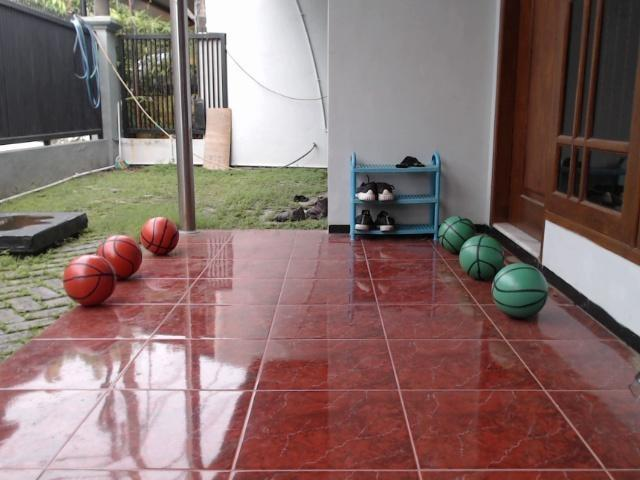Sports-Ball: (492, 263, 546, 323), (97, 226, 144, 278), (457, 229, 502, 282), (68, 259, 113, 308), (136, 208, 179, 253), (435, 218, 471, 258)
